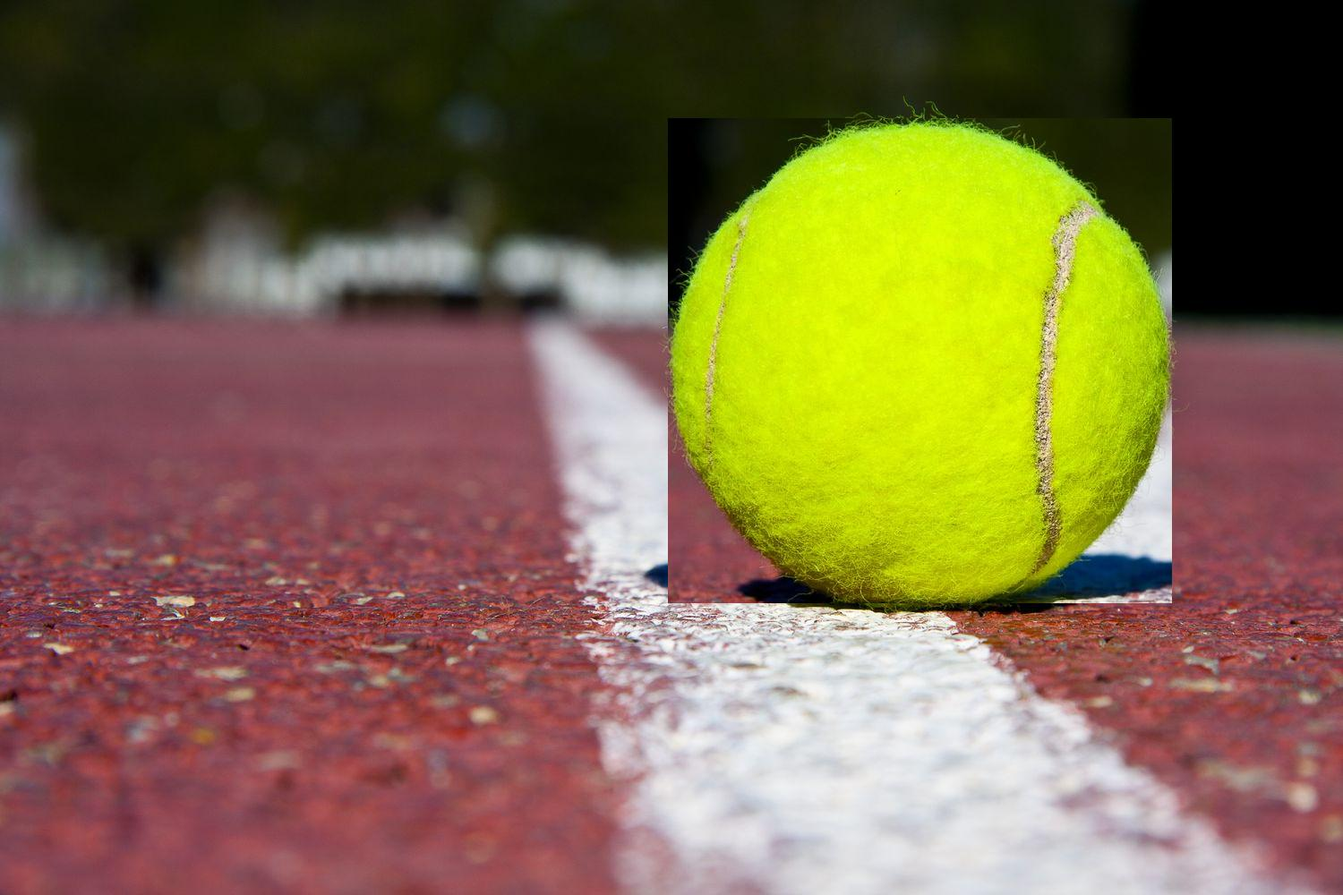tennis ball: (669, 119, 1174, 605)
